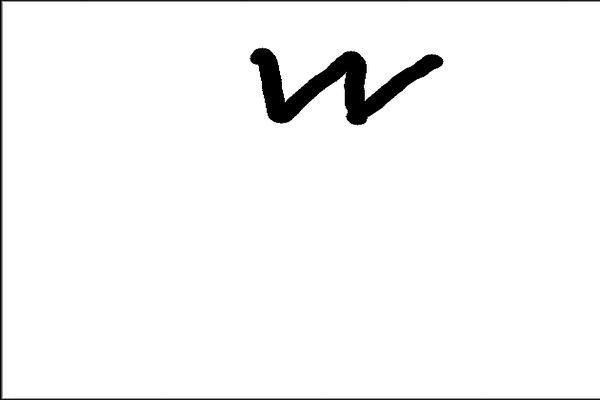w: (239, 31, 474, 172)
